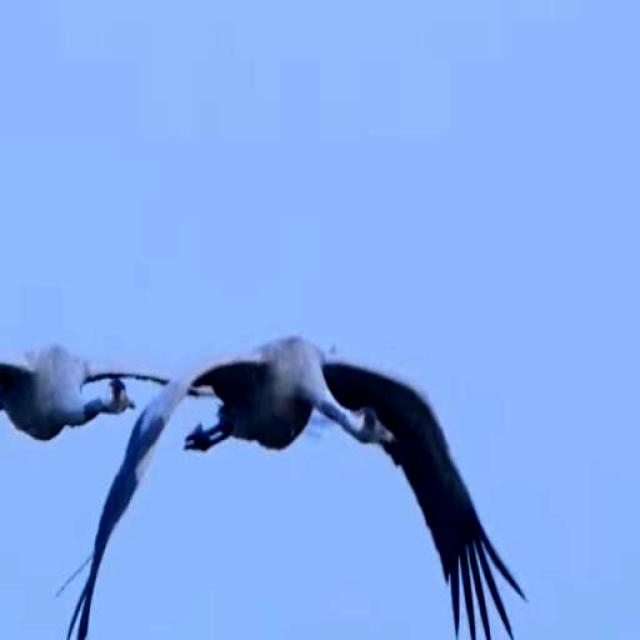airplane: (72, 339, 525, 640), (0, 332, 205, 439)
